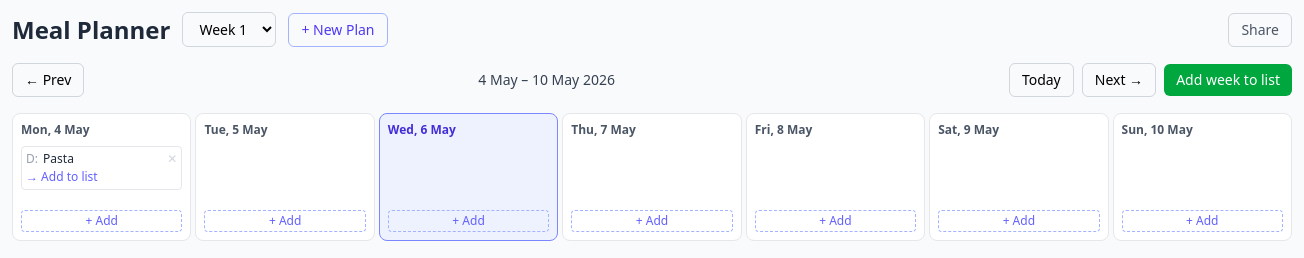
Test: MealPlannerPage › delete entry removes it from the calendar
This screenshot has width=1304, height=258.
expect the text "Pasta" is shown: met, box [43, 150, 74, 167]
Step 1. Click the button titled "Remove" → (172, 159), box [167, 151, 178, 167]
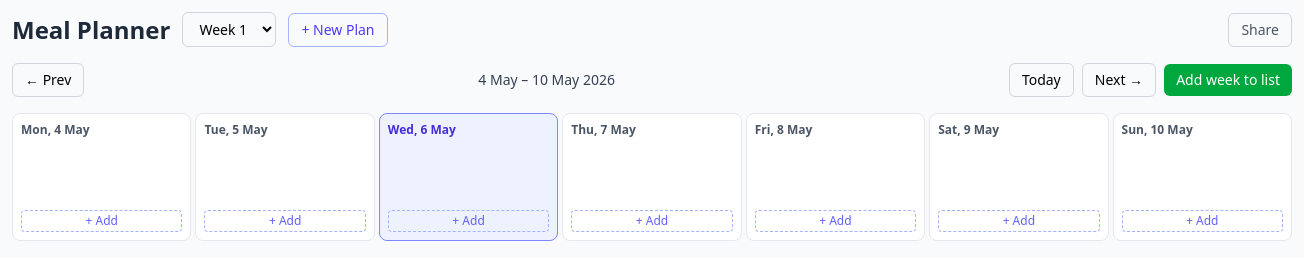
expect the text "Pasta" is gone: met
